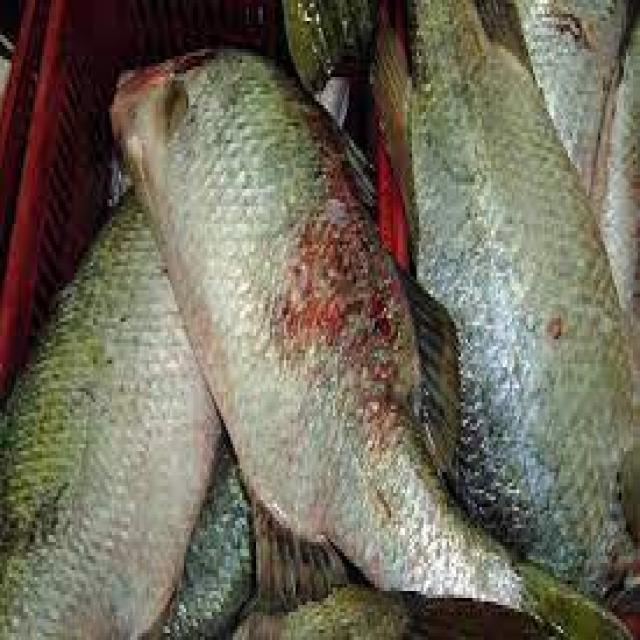EUS Disease: (4, 3, 640, 638), (228, 154, 439, 604), (514, 284, 604, 383)
